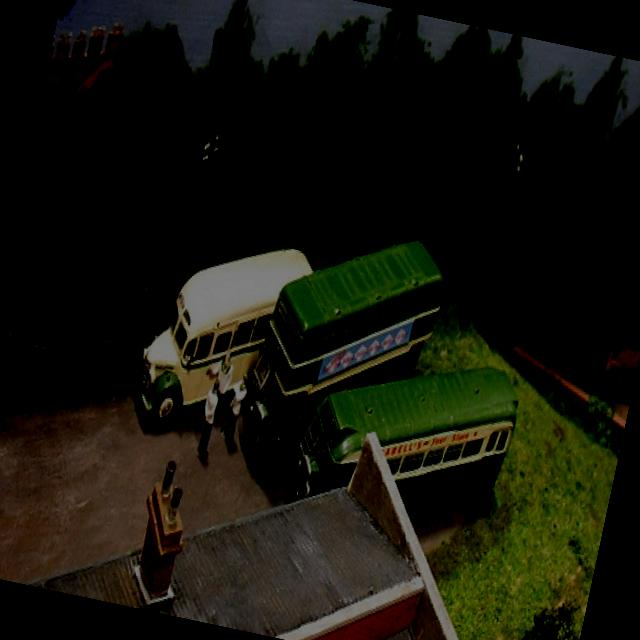Vehicle: (226, 202, 454, 514), (286, 322, 528, 542), (126, 219, 316, 444)
